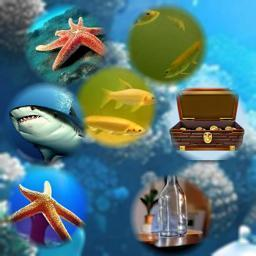not an animal: (148, 172, 192, 246)
treasure: (169, 85, 248, 155)
